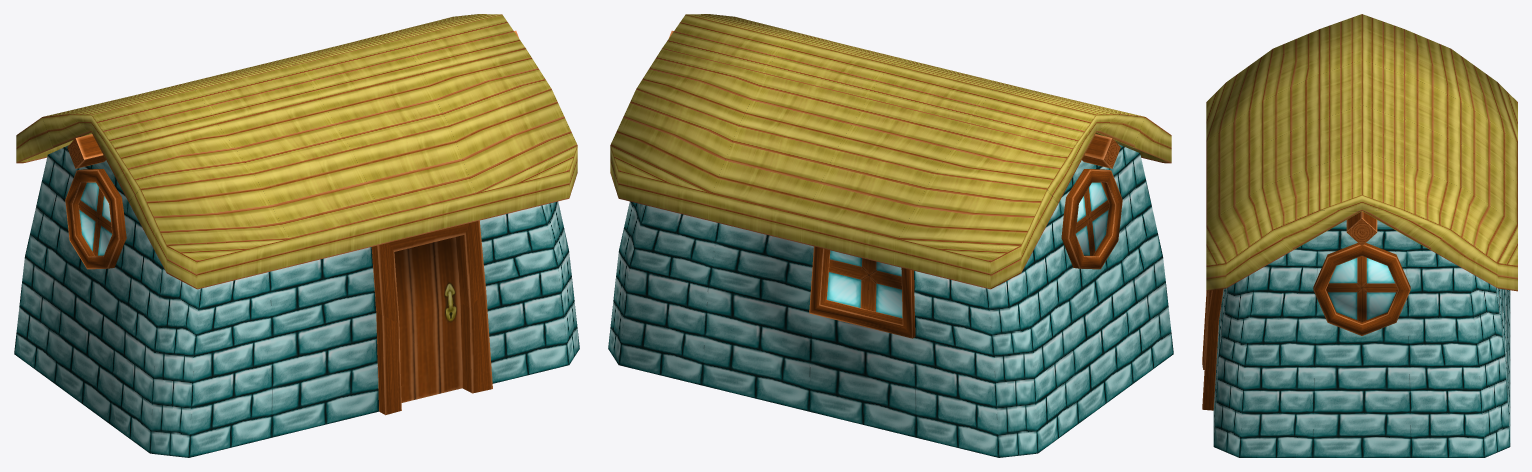
The model's file is Casa1 (1).glb.
The picture shows the model from 3 angles, left to right: view 1: azimuth 30°, elevation 25°; view 2: azimuth 150°, elevation 25°; view 3: azimuth 270°, elevation 25°; orthographic projection. The views are drawn at different scales.
Parts seen in each view (by area): view 1: Casa_01; view 2: Casa_01; view 3: Casa_01.
Boxes of the visible parts, x1,y1,x2,y2 form: Casa_01: [14, 14, 579, 457]; Casa_01: [608, 14, 1173, 457]; Casa_01: [1202, 14, 1517, 457].
Bounding box in the file's own units: 12.69 × 7.93 × 8.72.
Materials: 1 (1 with a texture image).
